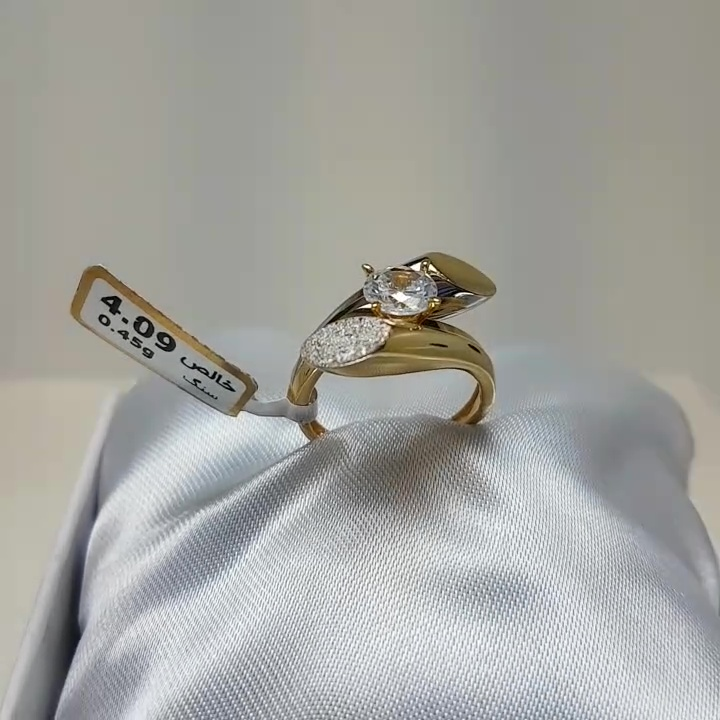Ring 7: (254, 243, 518, 446)
